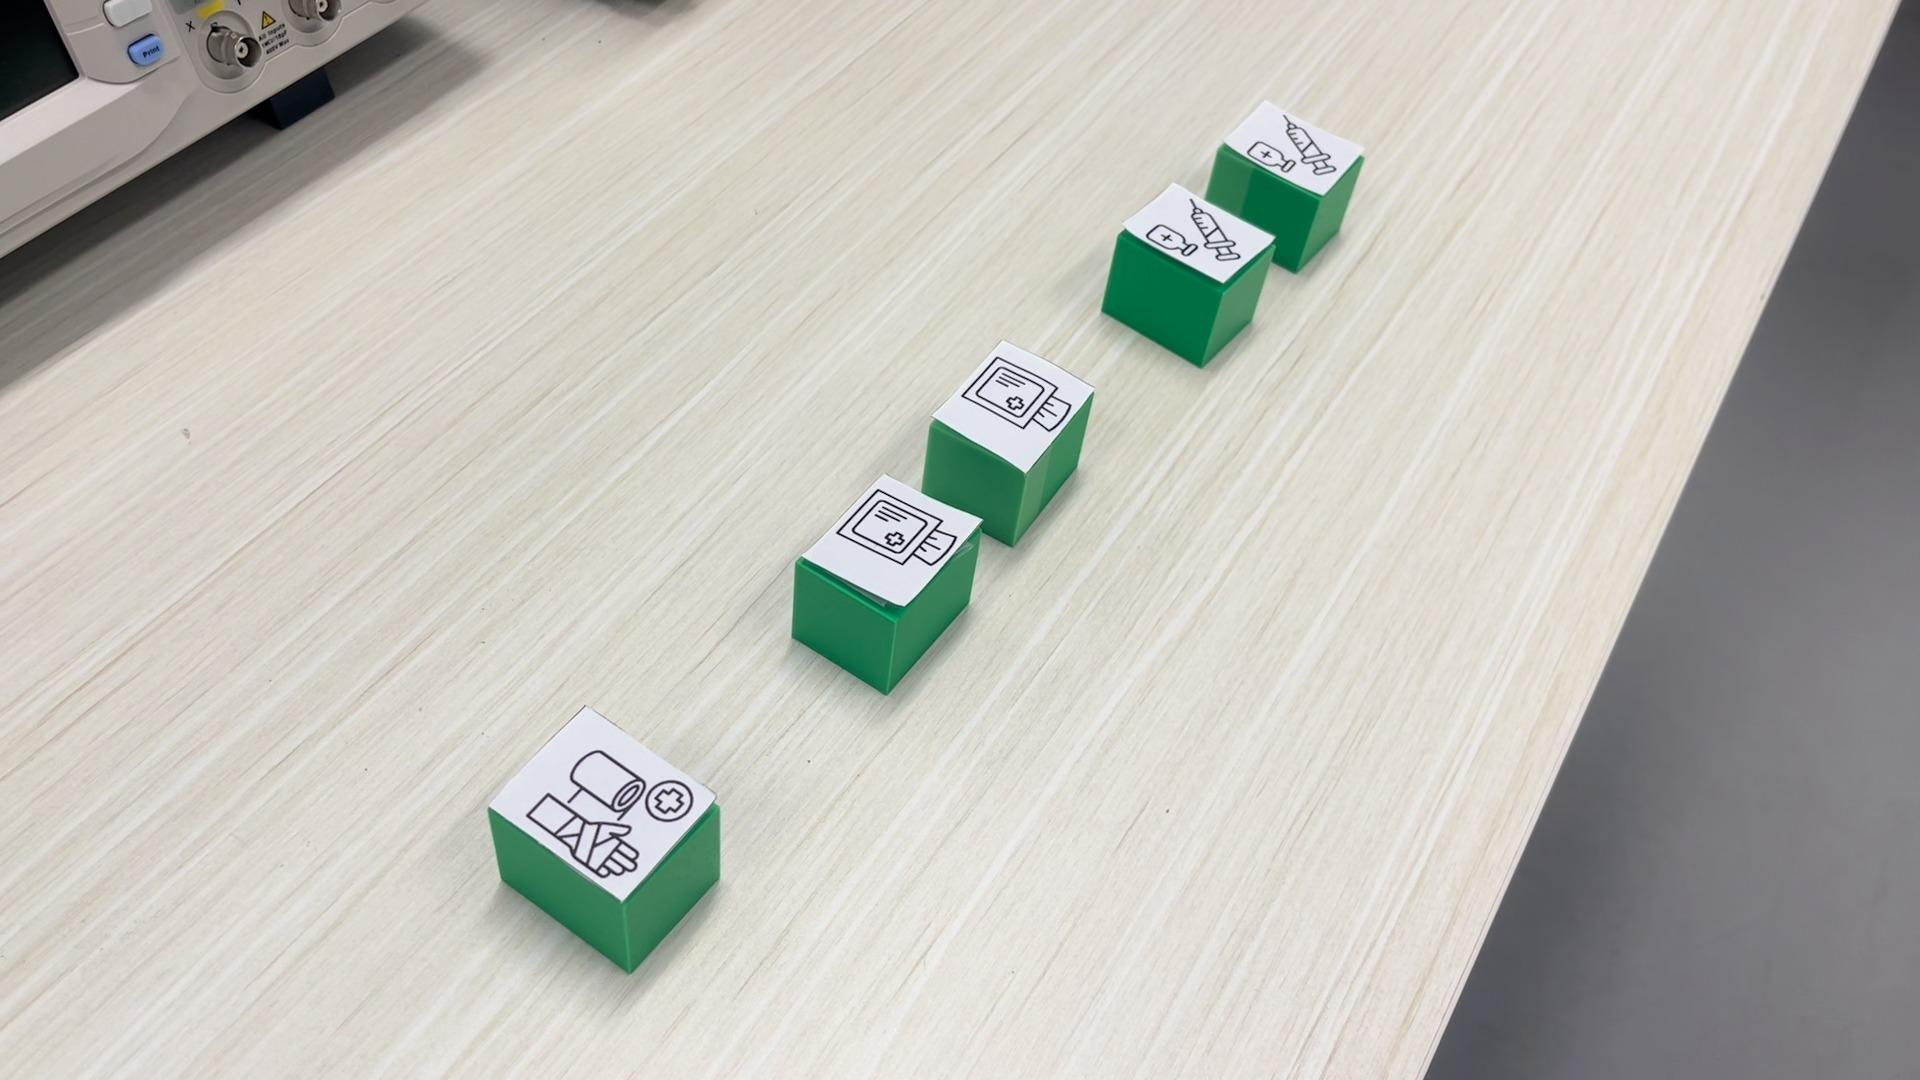Bandages: (480, 707, 721, 973)
Gauze: (791, 472, 986, 695), (920, 338, 1098, 545)
antiseptic cream: (1104, 181, 1271, 364), (1217, 95, 1366, 218)
